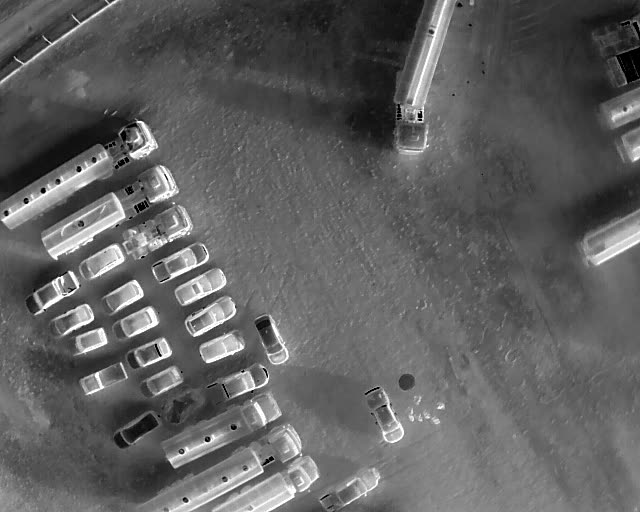car: (316, 465, 382, 512), (203, 363, 269, 403), (23, 270, 80, 315), (149, 242, 210, 284), (364, 384, 405, 445), (183, 294, 236, 336), (112, 408, 162, 447), (174, 269, 227, 305), (44, 303, 94, 340), (77, 243, 124, 281), (253, 316, 290, 364), (76, 362, 129, 394), (99, 278, 146, 314), (109, 306, 160, 338), (199, 329, 246, 362), (125, 335, 171, 367), (136, 365, 183, 396), (65, 325, 108, 357)
person: (435, 401, 446, 411), (414, 395, 423, 405), (422, 409, 431, 419), (431, 416, 441, 425), (416, 413, 424, 422), (408, 413, 415, 421), (409, 407, 415, 415)
truck: (0, 118, 160, 229), (138, 423, 302, 511), (39, 163, 179, 260), (390, 0, 459, 153), (162, 389, 281, 470), (212, 456, 321, 511), (122, 204, 192, 260), (577, 207, 639, 267), (596, 84, 640, 131)
